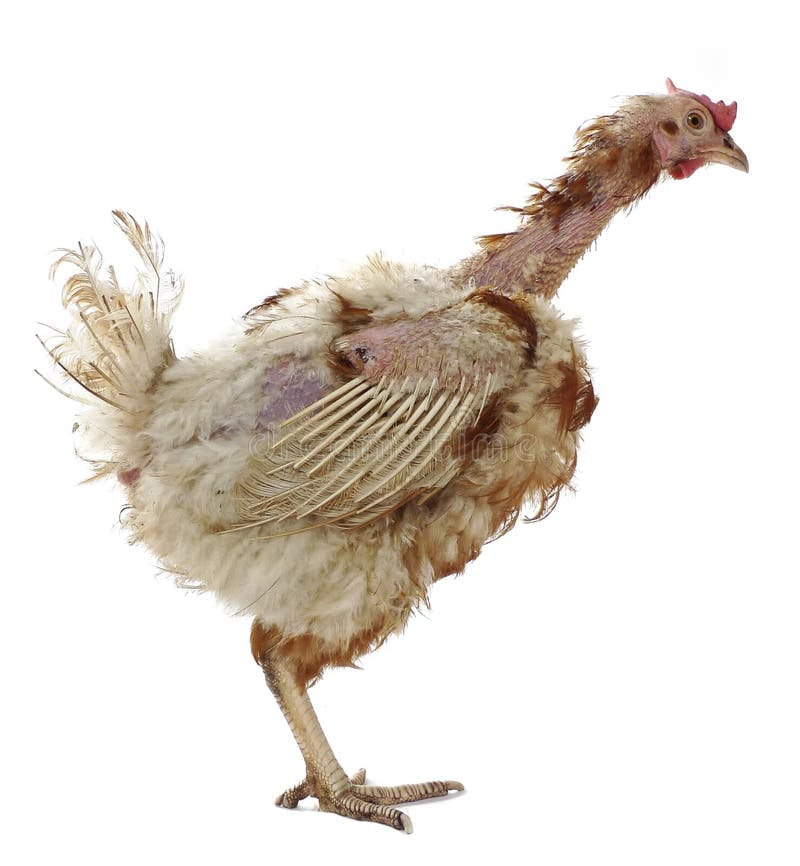Unhealthy: (45, 68, 752, 826)
